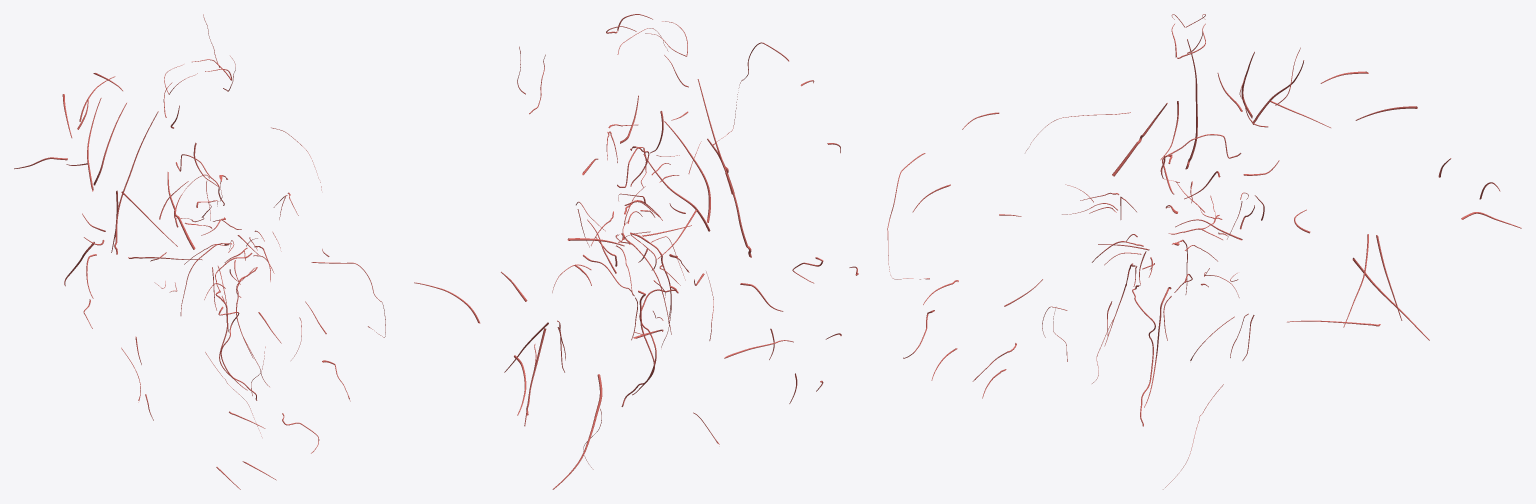
3 renders of one model, left to right at view 1: azimuth 30°, elevation 25°; view 2: azimuth 150°, elevation 25°; view 3: azimuth 270°, elevation 25°, orthographic. The views are drawn at different scales.
Size of the model in its own units: 75.19 by 159 by 207.
